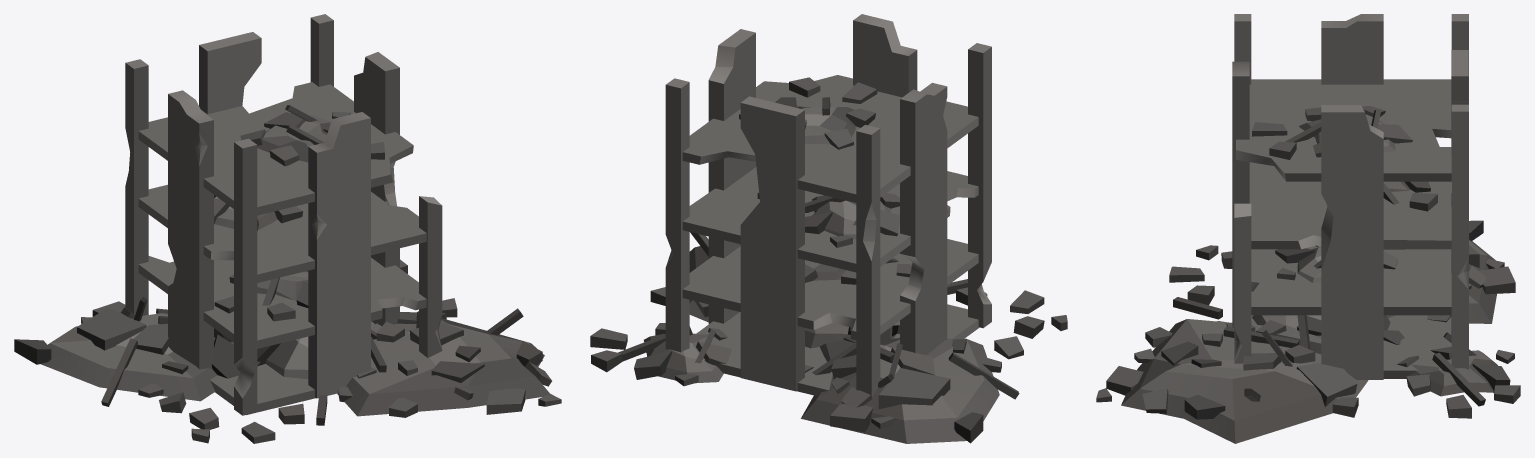
File: SA_Bld_Building_Damaged_02.gltf
The picture shows the model from 3 angles, left to right: view 1: azimuth 30°, elevation 25°; view 2: azimuth 150°, elevation 25°; view 3: azimuth 270°, elevation 25°; orthographic projection. The views are drawn at different scales.
Parts seen in each view (by area): view 1: SA_Bld_Building_Damaged_02; view 2: SA_Bld_Building_Damaged_02; view 3: SA_Bld_Building_Damaged_02.
Boxes of the visible parts, x1,y1,x2,y2 form: SA_Bld_Building_Damaged_02: [14, 14, 561, 443]; SA_Bld_Building_Damaged_02: [590, 14, 1067, 443]; SA_Bld_Building_Damaged_02: [1096, 14, 1520, 443].
Size of the model in its own units: 31.2 by 20.63 by 28.16.
1 material, 1 textured.
